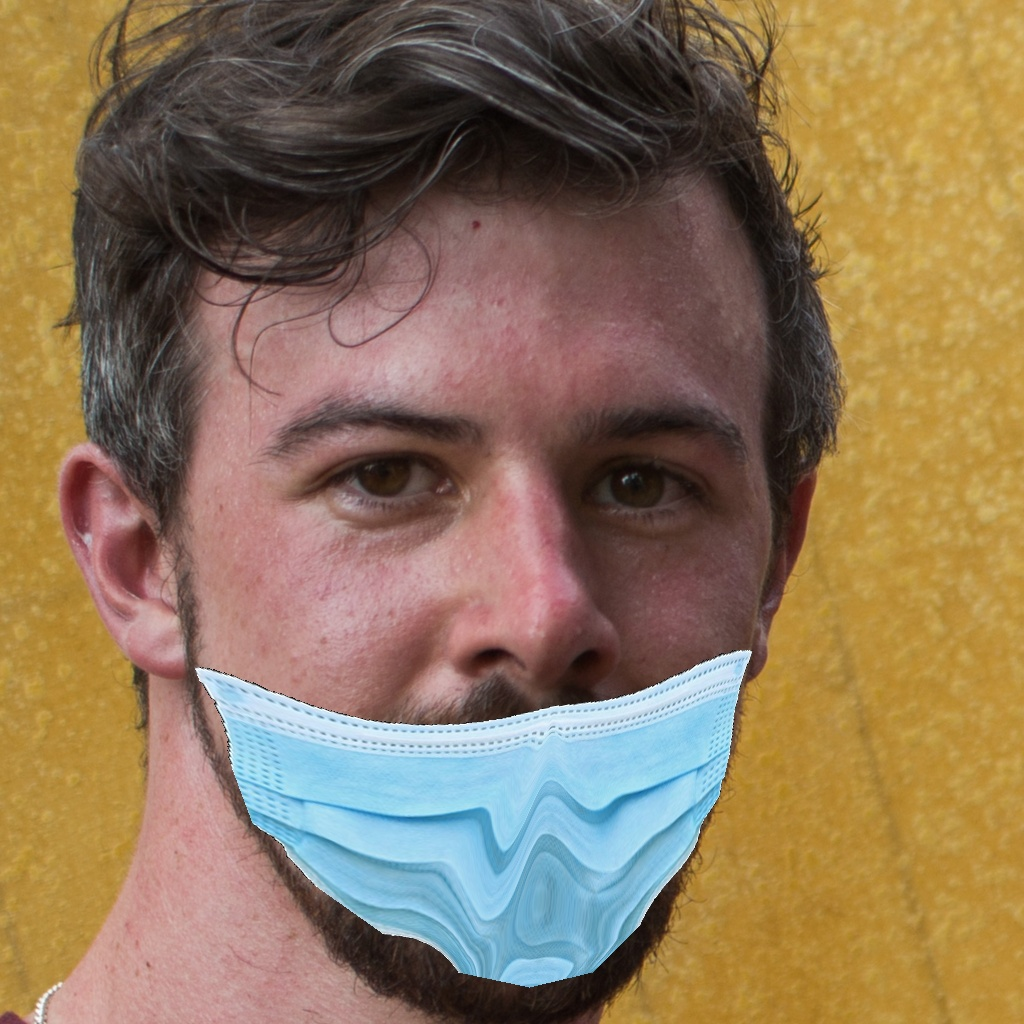mascarilla_mal_puesta: (149, 370, 789, 1018)
